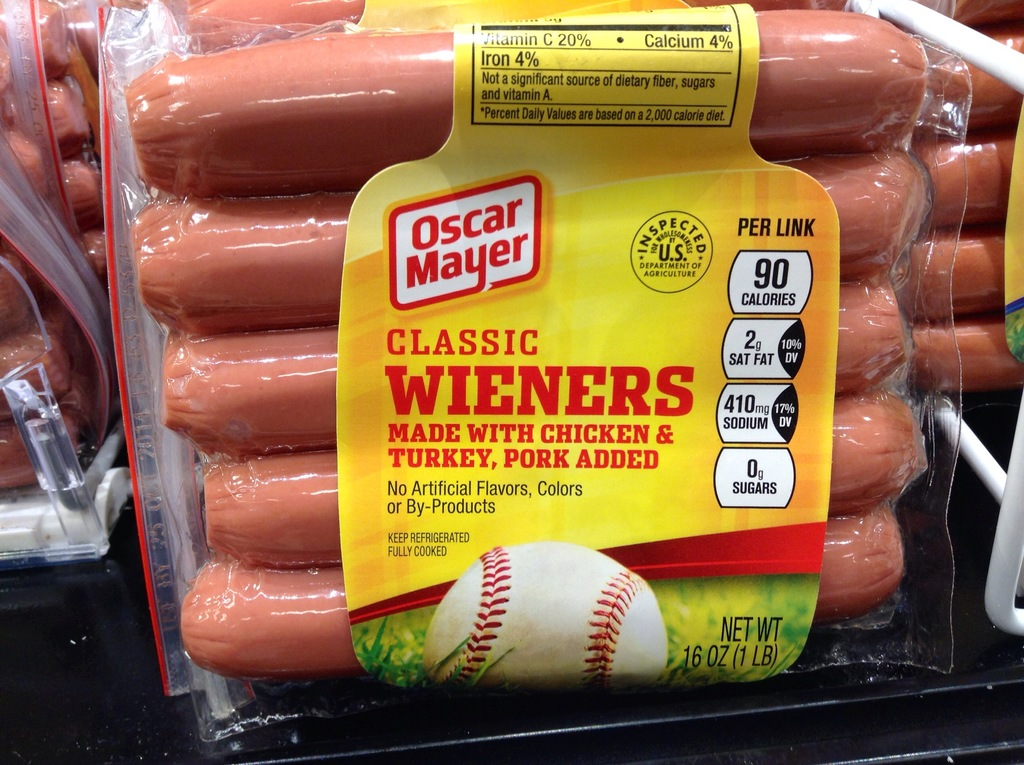Ball: (429, 546, 666, 686)
